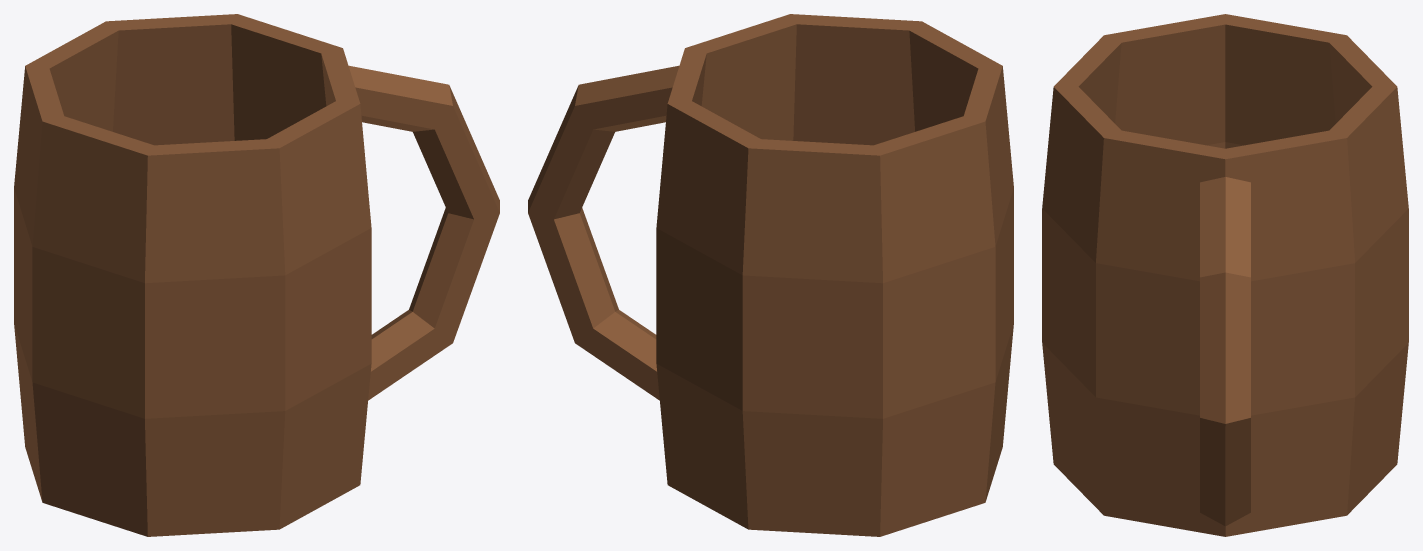
The model's file is Done_Chope_A.glb.
3 views of the same model, side by side, from view 1: azimuth 30°, elevation 25°; view 2: azimuth 150°, elevation 25°; view 3: azimuth 270°, elevation 25° (orthographic).
Visible parts, largest first — view 1: Chope A; view 2: Chope A; view 3: Chope A.
Boxes of the visible parts, bbox=[...] form: Chope A: bbox=[14, 14, 499, 536]; Chope A: bbox=[528, 14, 1013, 536]; Chope A: bbox=[1042, 14, 1408, 536].
Bounding box in the file's own units: 0.8067 × 0.6288 × 0.5532.
